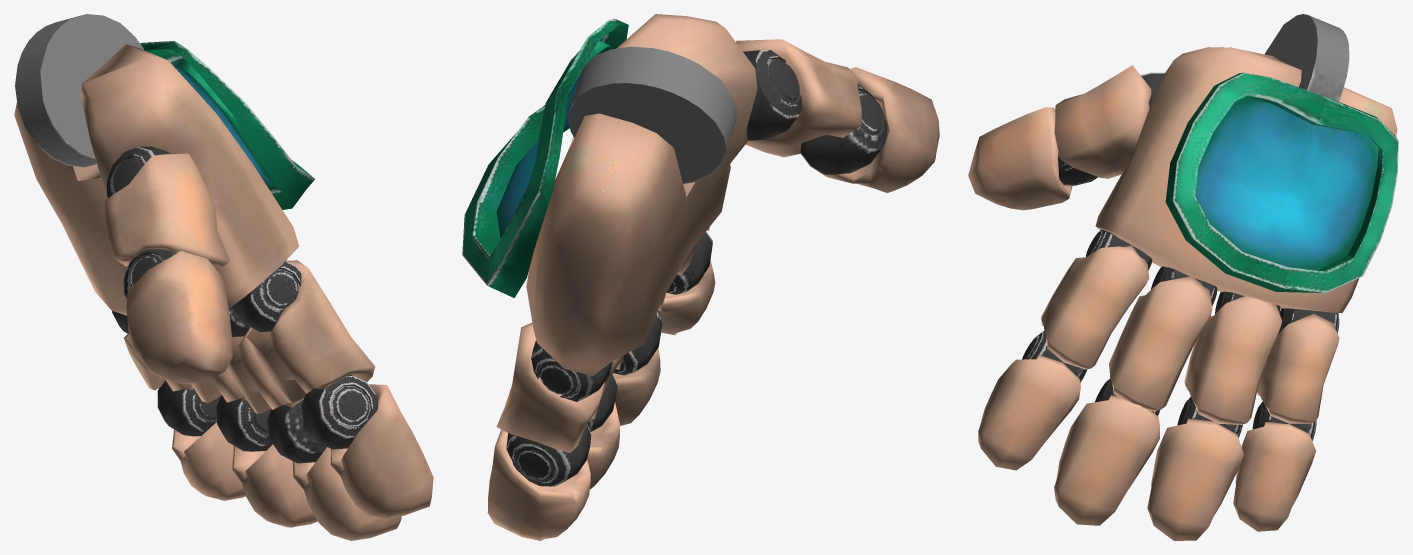
The model's file is handL.fbx.
3 renders of one model, left to right at view 1: azimuth 30°, elevation 25°; view 2: azimuth 150°, elevation 25°; view 3: azimuth 270°, elevation 25°, orthographic. The views are drawn at different scales.
Visible parts, largest first — view 1: matte_0.004, matte_22, matte_12, matte_21, matte_11, matte_42, metalic_0, matte_32, matte_52, matte_31, matte_41, matte_51; view 2: matte_0.004, metalic_0, matte_11, matte_12, matte_52, matte_51, matte_22, matte_32, matte_42; view 3: metalic_0, matte_0.004, matte_32, matte_31, matte_21, matte_42, matte_41, matte_22, matte_12, matte_11, matte_52, matte_51.
Boxes of the visible parts, left/top/right/bottom form: matte_0.004: left=14, top=14, right=298, bottom=315; matte_22: left=301, top=374, right=433, bottom=519; matte_12: left=123, top=249, right=232, bottom=384; matte_21: left=232, top=260, right=375, bottom=403; matte_11: left=103, top=146, right=229, bottom=267; matte_42: left=216, top=395, right=317, bottom=527; metalic_0: left=140, top=41, right=314, bottom=209; matte_32: left=267, top=400, right=401, bottom=540; matte_52: left=157, top=380, right=245, bottom=500; matte_31: left=227, top=307, right=304, bottom=413; matte_41: left=191, top=368, right=246, bottom=402; matte_51: left=112, top=311, right=193, bottom=391; matte_0.004: left=526, top=14, right=757, bottom=375; metalic_0: left=462, top=18, right=628, bottom=297; matte_11: left=736, top=39, right=861, bottom=157; matte_12: left=800, top=67, right=939, bottom=193; matte_52: left=487, top=424, right=591, bottom=540; matte_51: left=496, top=322, right=612, bottom=452; matte_22: left=657, top=231, right=715, bottom=335; matte_32: left=613, top=312, right=662, bottom=425; matte_42: left=587, top=373, right=619, bottom=489; metalic_0: left=1165, top=72, right=1398, bottom=292; matte_0.004: left=1095, top=14, right=1397, bottom=313; matte_32: left=1054, top=378, right=1159, bottom=525; matte_31: left=1109, top=266, right=1217, bottom=411; matte_21: left=1041, top=229, right=1152, bottom=369; matte_42: left=1147, top=396, right=1244, bottom=540; matte_41: left=1184, top=291, right=1281, bottom=424; matte_22: left=978, top=331, right=1087, bottom=470; matte_12: left=968, top=107, right=1097, bottom=210; matte_11: left=1054, top=65, right=1164, bottom=178; matte_52: left=1233, top=401, right=1316, bottom=531; matte_51: left=1257, top=308, right=1339, bottom=423.
Bounding box in the file's own units: 466 × 663 × 756.
